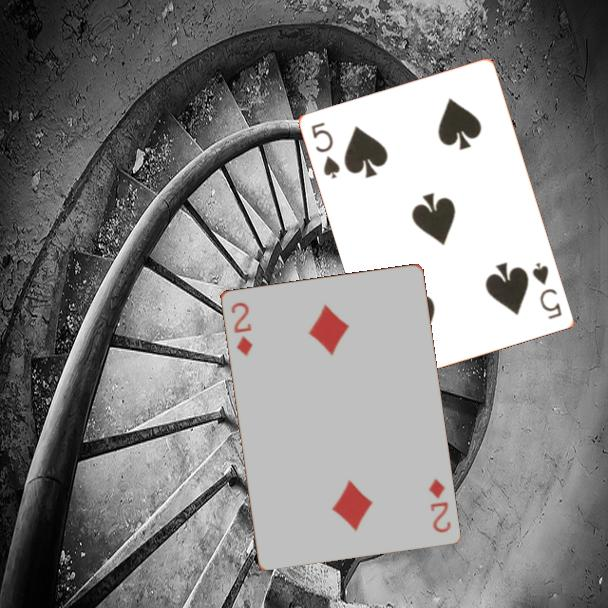d02: (425, 475, 454, 535), (227, 298, 255, 359)
s05: (529, 259, 565, 322), (308, 119, 343, 182)
